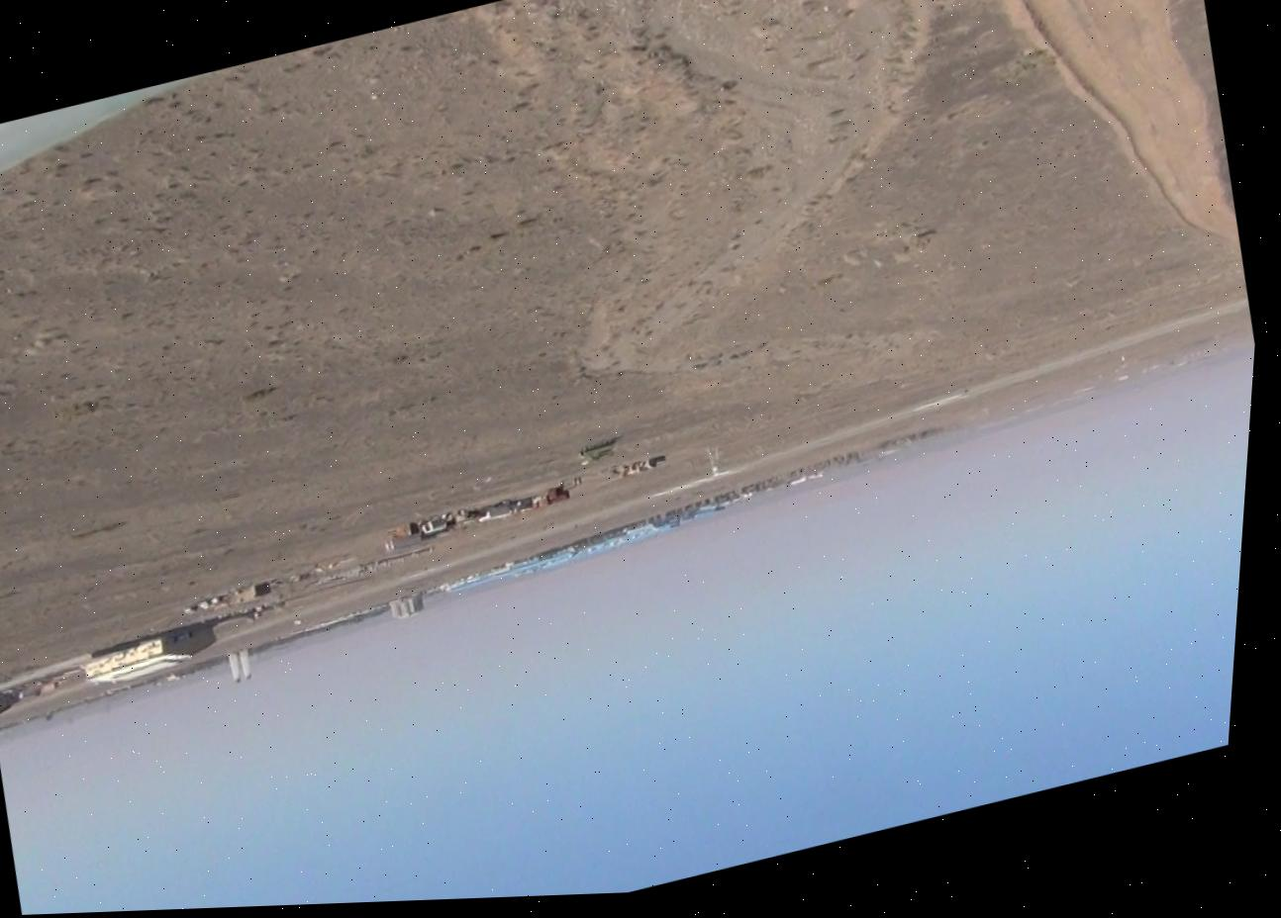armored_car: (570, 434, 623, 471)
